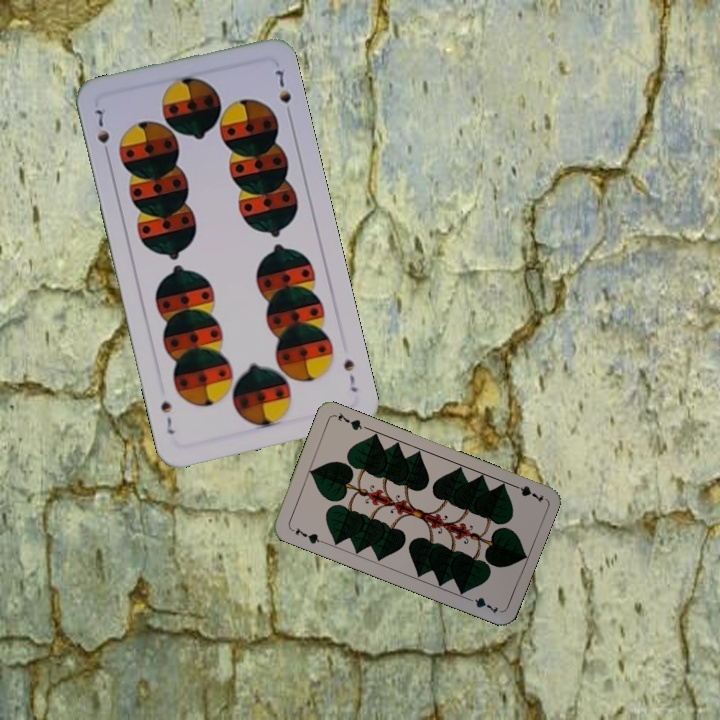G7: (507, 480, 546, 505), (287, 523, 326, 546)
S7: (91, 105, 112, 161), (339, 355, 361, 395)
